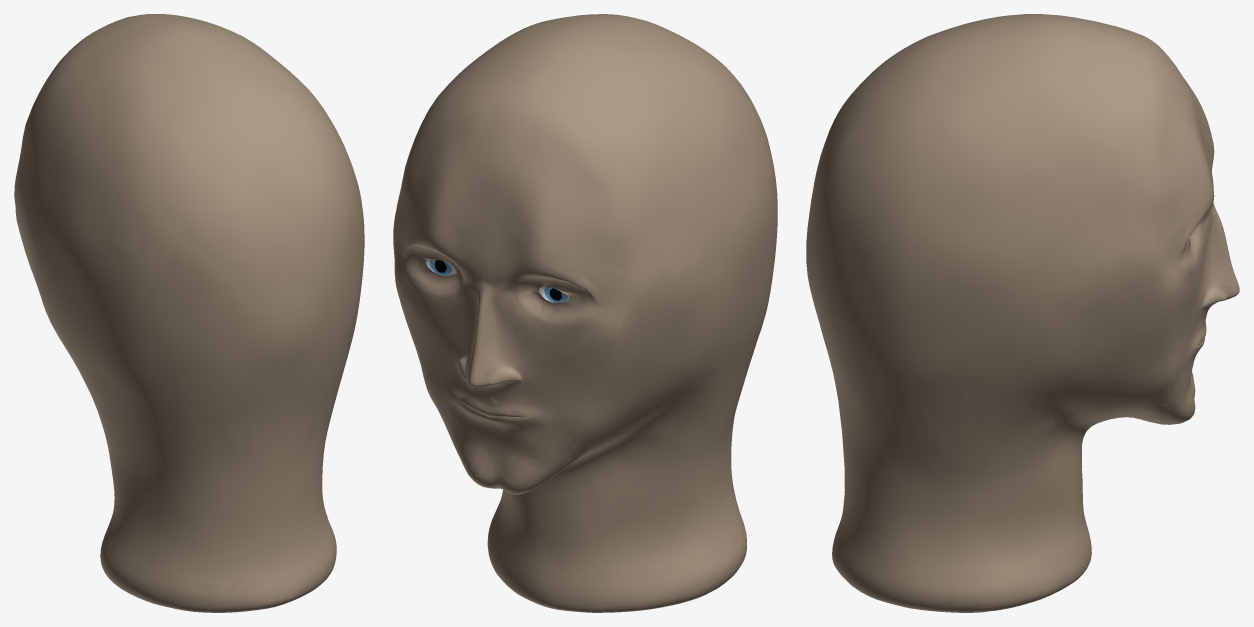
File: mememan.glb
3 renders of one model, left to right at view 1: azimuth 30°, elevation 25°; view 2: azimuth 150°, elevation 25°; view 3: azimuth 270°, elevation 25°, orthographic. The views are drawn at different scales.
Parts seen in each view (by area): view 1: mememan; view 2: mememan; view 3: mememan.
Part boxes in pixels (x1,y1,x2,y2): mememan: [14, 14, 364, 612]; mememan: [393, 14, 777, 612]; mememan: [806, 14, 1239, 612].
Size of the model in its own units: 0.5833 by 1.05 by 0.7568.
